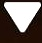dialog_hint_inverted: (4, 1, 41, 34)
